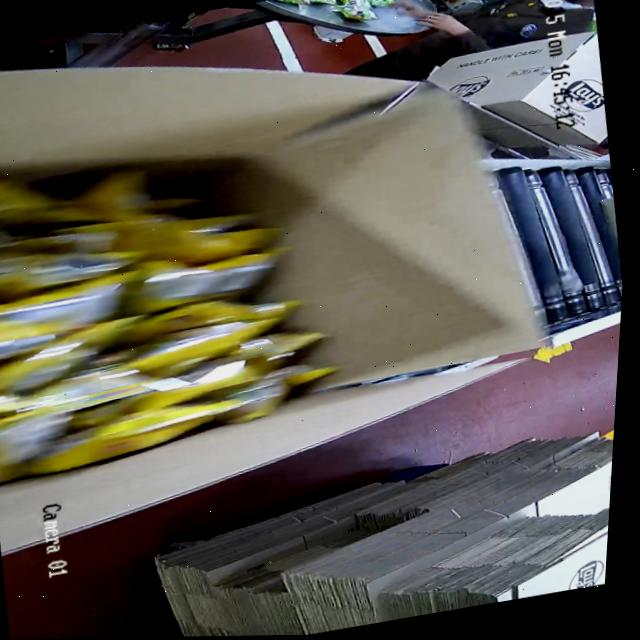SALTED: (0, 143, 334, 476)
